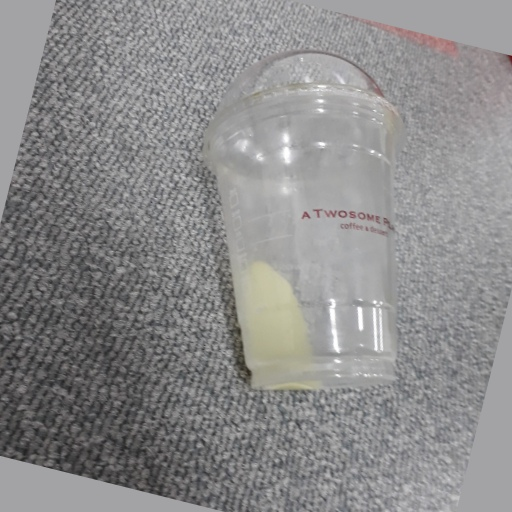Plastic_2: (203, 50, 406, 398)
